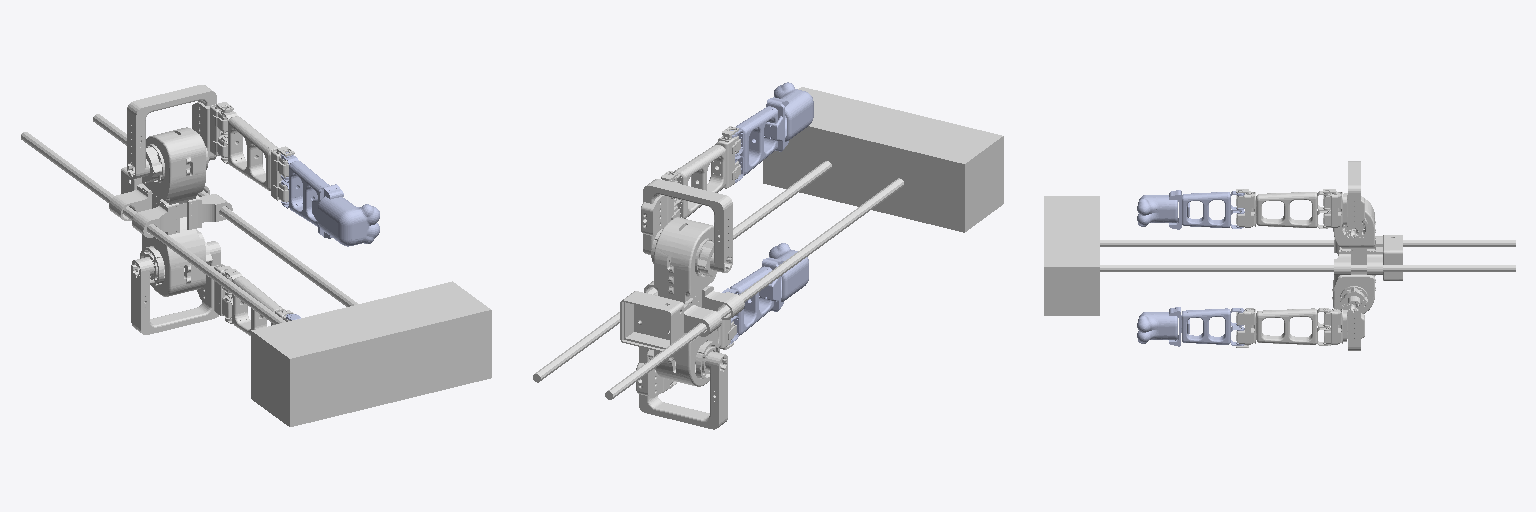
robot.urdf — Pata_Pacial2URDFV6:
<?xml version="1.0" encoding="utf-8"?>
<!-- This URDF was automatically created by SolidWorks to URDF Exporter! Originally created by Stephen Brawner (brawner@gmail.com) 
     Commit Version: 1.6.0-4-g7f85cfe  Build Version: 1.6.7995.38578
     For more information, please see http://wiki.ros.org/sw_urdf_exporter -->
<robot
  name="Pata_Pacial2URDFV6">
  <link
    name="Base_link">
    <inertial>
      <origin
        xyz="-0.018172 -0.89862 -0.0011122"
        rpy="0 0 0" />
      <mass
        value="30.384" />
      <inertia
        ixx="1.489"
        ixy="-4.6363E-05"
        ixz="-2.8743E-05"
        iyy="0.80864"
        iyz="6.5615E-07"
        izz="2.1249" />
    </inertial>
    <visual>
      <origin
        xyz="0 0 0"
        rpy="0 0 0" />
      <geometry>
        <mesh
          filename="package://robot_description/meshes/meshes_completo/Base_link.STL" />
      </geometry>
      <material
        name="">
        <color
          rgba="0.89412 0.89412 0.89412 1" />
      </material>
    </visual>
    <collision>
      <origin
        xyz="0 0 0"
        rpy="0 0 0" />
      <geometry>
        <mesh
          filename="package://robot_description/meshes/meshes_completo/Base_link.STL" />
      </geometry>
    </collision>
  </link>
  <link
    name="Right_Hip_Roll_Link">
    <inertial>
      <origin
        xyz="0.094847 0.018557 -0.051255"
        rpy="0 0 0" />
      <mass
        value="1.1692" />
      <inertia
        ixx="0.0068896"
        ixy="-2.4855E-07"
        ixz="-1.8745E-08"
        iyy="0.0098103"
        iyz="-1.5926E-05"
        izz="0.0035982" />
    </inertial>
    <visual>
      <origin
        xyz="0 0 0"
        rpy="0 0 0" />
      <geometry>
        <mesh
          filename="package://robot_description/meshes/meshes_completo/Right_Hip_Roll_Link.STL" />
      </geometry>
      <material
        name="">
        <color
          rgba="0.89412 0.89412 0.89412 1" />
      </material>
    </visual>
    <collision>
      <origin
        xyz="0 0 0"
        rpy="0 0 0" />
      <geometry>
        <mesh
          filename="package://robot_description/meshes/meshes_completo/Right_Hip_Roll_Link.STL" />
      </geometry>
    </collision>
  </link>
  <joint
    name="Right_Hip_Roll_Joint"
    type="revolute">
    <origin
      xyz="0.065472 -0.10907 0.14406"
      rpy="3.1416 -1.5708 0" />
    <parent
      link="Base_link" />
    <child
      link="Right_Hip_Roll_Link" />
    <axis
      xyz="0 0 -1" />
    <limit
      lower="-0.34907"
      upper="1.5708"
      effort="100"
      velocity="100" />
  </joint>
  <link
    name="Right_Hip_Pitch_Link">
    <inertial>
      <origin
        xyz="-0.00038449 -0.18817 -0.072706"
        rpy="0 0 0" />
      <mass
        value="0.82986" />
      <inertia
        ixx="0.0038103"
        ixy="3.0322E-06"
        ixz="-2.1802E-08"
        iyy="0.0013066"
        iyz="1.814E-07"
        izz="0.0026907" />
    </inertial>
    <visual>
      <origin
        xyz="0 0 0"
        rpy="0 0 0" />
      <geometry>
        <mesh
          filename="package://robot_description/meshes/meshes_completo/Right_Hip_Pitch_Link.STL" />
      </geometry>
      <material
        name="">
        <color
          rgba="0.89412 0.89412 0.89412 1" />
      </material>
    </visual>
    <collision>
      <origin
        xyz="0 0 0"
        rpy="0 0 0" />
      <geometry>
        <mesh
          filename="package://robot_description/meshes/meshes_completo/Right_Hip_Pitch_Link.STL" />
      </geometry>
    </collision>
  </link>
  <joint
    name="Right_Hip_Pitch_Joint"
    type="revolute">
    <origin
      xyz="0.15823 0.097319 0.01615"
      rpy="3.1416 -1.5708 0" />
    <parent
      link="Right_Hip_Roll_Link" />
    <child
      link="Right_Hip_Pitch_Link" />
    <axis
      xyz="0 0 1" />
    <limit
      lower="-1.5708"
      upper="1.5708"
      effort="100"
      velocity="100" />
  </joint>
  <link
    name="Right_Knee_Link">
    <inertial>
      <origin
        xyz="0.0032936 -0.23235 -0.070243"
        rpy="0 0 0" />
      <mass
        value="1.3221" />
      <inertia
        ixx="0.0042399"
        ixy="0.00023663"
        ixz="-2.5939E-05"
        iyy="0.0024555"
        iyz="1.9266E-05"
        izz="0.0032113" />
    </inertial>
    <visual>
      <origin
        xyz="0 0 0"
        rpy="0 0 0" />
      <geometry>
        <mesh
          filename="package://robot_description/meshes/meshes_completo/Right_Knee_Link.STL" />
      </geometry>
      <material
        name="">
        <color
          rgba="0.79216 0.81961 0.92941 1" />
      </material>
    </visual>
    <collision>
      <origin
        xyz="0 0 0"
        rpy="0 0 0" />
      <geometry>
        <mesh
          filename="package://robot_description/meshes/meshes_completo/Right_Knee_Link.STL" />
      </geometry>
    </collision>
  </link>
  <joint
    name="Right_Knee_Joint"
    type="revolute">
    <origin
      xyz="0 -0.31324 -0.0018918"
      rpy="0 0 0" />
    <parent
      link="Right_Hip_Pitch_Link" />
    <child
      link="Right_Knee_Link" />
    <axis
      xyz="0 0 -1" />
    <limit
      lower="-1.5708"
      upper="1.5708"
      effort="100"
      velocity="100" />
  </joint>
  <link
    name="Left_Hip_Roll_Link">
    <inertial>
      <origin
        xyz="-0.018172 -0.89862 -0.0011122"
        rpy="0 0 0" />
      <mass
        value="30.384" />
      <inertia
        ixx="1.489"
        ixy="-4.6363E-05"
        ixz="-2.8743E-05"
        iyy="0.80864"
        iyz="6.5615E-07"
        izz="2.1249" />
    </inertial>
    <visual>
      <origin
        xyz="0 0 0"
        rpy="0 0 0" />
      <geometry>
        <mesh
          filename="package://robot_description/meshes/meshes_completo/Left_Hip_Roll_Link.STL" />
      </geometry>
      <material
        name="">
        <color
          rgba="0.89412 0.89412 0.89412 1" />
      </material>
    </visual>
    <collision>
      <origin
        xyz="0 0 0"
        rpy="0 0 0" />
      <geometry>
        <mesh
          filename="package://robot_description/meshes/meshes_completo/Left_Hip_Roll_Link.STL" />
      </geometry>
    </collision>
  </link>
  <joint
    name="Left_Hip_Roll_Joint"
    type="revolute">
    <origin
      xyz="0.078873 -0.10909 -0.14579"
      rpy="3.1416 -1.5708 0" />
    <parent
      link="Base_link" />
    <child
      link="Left_Hip_Roll_Link" />
    <axis
      xyz="0 0 1" />
    <limit
      lower="-0.34907"
      upper="1.5708"
      effort="100"
      velocity="100" />
  </joint>
  <link
    name="Left_Hip_Pitch_Link">
    <inertial>
      <origin
        xyz="-0.00038625 0.18852 -0.071064"
        rpy="0 0 0" />
      <mass
        value="0.82827" />
      <inertia
        ixx="0.0038103"
        ixy="-3.0381E-06"
        ixz="-2.4021E-08"
        iyy="0.0013065"
        iyz="-1.8002E-07"
        izz="0.0026905" />
    </inertial>
    <visual>
      <origin
        xyz="0 0 0"
        rpy="0 0 0" />
      <geometry>
        <mesh
          filename="package://robot_description/meshes/meshes_completo/Left_Hip_Pitch_Link.STL" />
      </geometry>
      <material
        name="">
        <color
          rgba="0.89412 0.89412 0.89412 1" />
      </material>
    </visual>
    <collision>
      <origin
        xyz="0 0 0"
        rpy="0 0 0" />
      <geometry>
        <mesh
          filename="package://robot_description/meshes/meshes_completo/Left_Hip_Pitch_Link.STL" />
      </geometry>
    </collision>
  </link>
  <joint
    name="Left_Hip_Pitch_Joint"
    type="revolute">
    <origin
      xyz="-0.15623 0.097361 0.01615"
      rpy="0 -1.5708 0" />
    <parent
      link="Left_Hip_Roll_Link" />
    <child
      link="Left_Hip_Pitch_Link" />
    <axis
      xyz="0 0 -1" />
    <limit
      lower="-1.5708"
      upper="1.5708"
      effort="100"
      velocity="100" />
  </joint>
  <link
    name="Left_Knee_Link">
    <inertial>
      <origin
        xyz="0.0032886 0.23235 -0.072631"
        rpy="0 0 0" />
      <mass
        value="1.3221" />
      <inertia
        ixx="0.0042399"
        ixy="-0.00023663"
        ixz="2.5939E-05"
        iyy="0.0024555"
        iyz="1.9266E-05"
        izz="0.0032113" />
    </inertial>
    <visual>
      <origin
        xyz="0 0 0"
        rpy="0 0 0" />
      <geometry>
        <mesh
          filename="package://robot_description/meshes/meshes_completo/Left_Knee_Link.STL" />
      </geometry>
      <material
        name="">
        <color
          rgba="0.79216 0.81961 0.92941 1" />
      </material>
    </visual>
    <collision>
      <origin
        xyz="0 0 0"
        rpy="0 0 0" />
      <geometry>
        <mesh
          filename="package://robot_description/meshes/meshes_completo/Left_Knee_Link.STL" />
      </geometry>
    </collision>
  </link>
  <joint
    name="Left_Knee_Joint"
    type="revolute">
    <origin
      xyz="0 0.313239999999995 -0.000121751528806113"
      rpy="0 0 0" />
    <parent
      link="Left_Hip_Pitch_Link" />
    <child
      link="Left_Knee_Link" />
    <axis
      xyz="0 0 1" />
    <limit
      lower="-1.5708"
      upper="1.5708"
      effort="100"
      velocity="100" />
  </joint>
</robot>

--- Render facts (derived) ---
3 views of the same robot in one strip: view 1: azimuth 30°, elevation 25°; view 2: azimuth 150°, elevation 25°; view 3: azimuth 270°, elevation 25° (orthographic).
Model Pata_Pacial2URDFV6 with 7 links and 6 joints (6 revolute), rooted at Base_link, posed every joint at zero.
Visible links, largest first — view 1: Base_link, Right_Knee_Link, Right_Hip_Roll_Link, Left_Hip_Roll_Link, Right_Hip_Pitch_Link, Left_Hip_Pitch_Link; view 2: Base_link, Right_Hip_Roll_Link, Right_Knee_Link, Left_Hip_Roll_Link, Left_Knee_Link, Right_Hip_Pitch_Link; view 3: Base_link, Left_Knee_Link, Right_Knee_Link, Left_Hip_Pitch_Link, Right_Hip_Pitch_Link, Right_Hip_Roll_Link, Left_Hip_Roll_Link.
Link boxes in pixels (x1,y1,x2,y2): Base_link: (21, 114, 491, 426); Right_Knee_Link: (281, 152, 379, 246); Right_Hip_Roll_Link: (127, 85, 233, 178); Left_Hip_Roll_Link: (131, 241, 231, 334); Right_Hip_Pitch_Link: (221, 108, 294, 202); Left_Hip_Pitch_Link: (225, 269, 293, 335); Base_link: (533, 87, 1003, 399); Right_Hip_Roll_Link: (641, 171, 732, 272); Right_Knee_Link: (730, 82, 813, 182); Left_Hip_Roll_Link: (636, 347, 727, 429); Left_Knee_Link: (722, 243, 808, 344); Right_Hip_Pitch_Link: (670, 126, 740, 218); Base_link: (1044, 196, 1515, 315); Left_Knee_Link: (1137, 307, 1244, 346); Right_Knee_Link: (1137, 190, 1244, 229); Left_Hip_Pitch_Link: (1236, 308, 1330, 347); Right_Hip_Pitch_Link: (1236, 189, 1330, 228); Right_Hip_Roll_Link: (1323, 161, 1364, 238); Left_Hip_Roll_Link: (1324, 296, 1364, 350).
Bounding box of the posed robot: 0.6 × 1.7 × 0.6499 m (x, y, z).
7 mesh visuals loaded from 7 distinct referenced files (7 binary STL).
